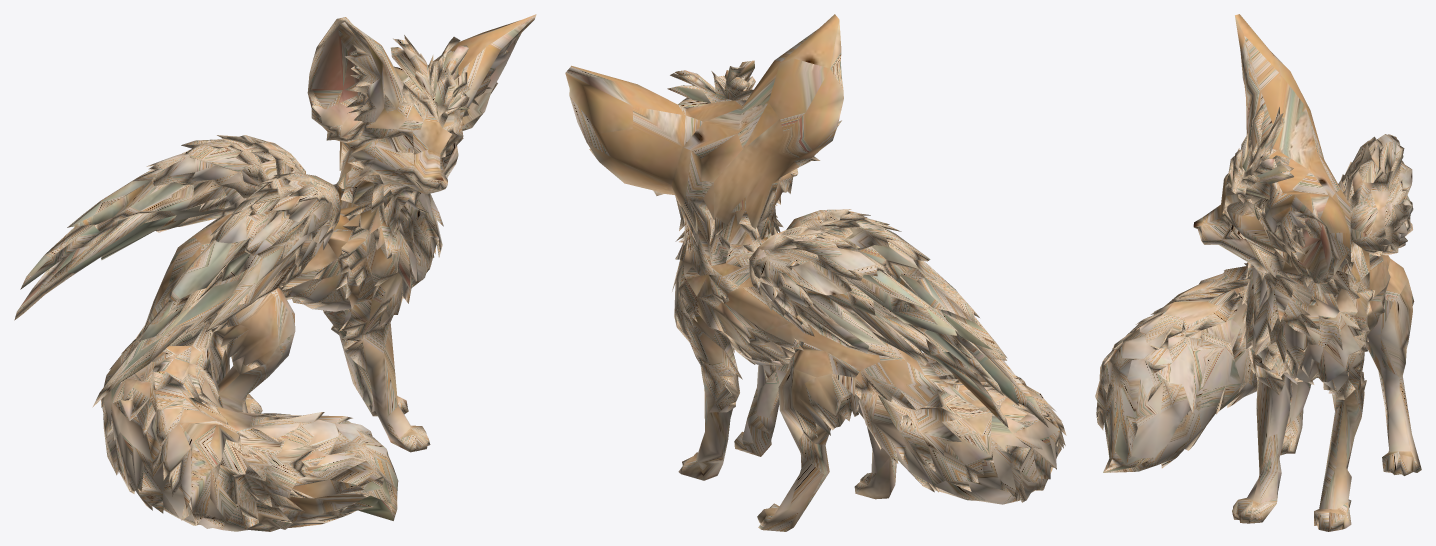
Rendered from rabbit.glb.
3 renders of one model, left to right at view 1: azimuth 30°, elevation 25°; view 2: azimuth 150°, elevation 25°; view 3: azimuth 270°, elevation 25°, orthographic. The views are drawn at different scales.
Bounding box in the file's own units: 0.6706 × 0.6 × 0.3813.
Materials: 1 (1 with a texture image).
